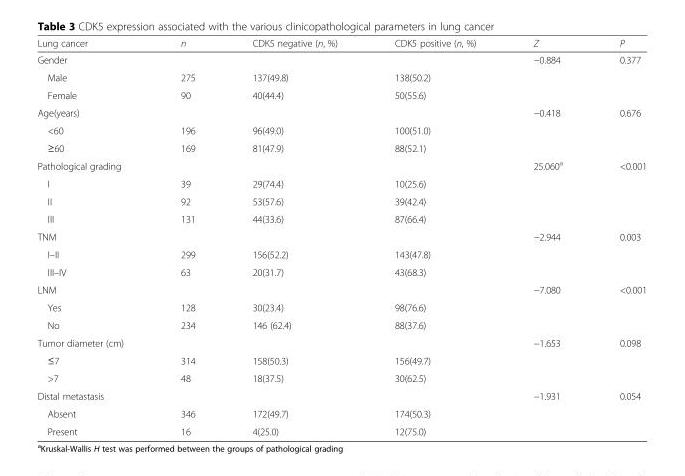table: (36, 37, 646, 436)
table column: (223, 37, 365, 436), (365, 37, 504, 436), (36, 37, 151, 436), (504, 37, 590, 436), (151, 37, 223, 436), (590, 37, 646, 436)
table column header: (36, 37, 646, 50)
table row: (36, 155, 646, 174), (36, 50, 646, 68), (36, 85, 646, 103), (36, 103, 646, 121), (36, 174, 646, 192), (36, 209, 646, 227), (36, 227, 646, 245), (36, 262, 646, 280), (36, 280, 646, 298), (36, 298, 646, 316), (36, 333, 646, 351), (36, 351, 646, 369), (36, 386, 646, 404), (36, 404, 646, 422), (36, 68, 646, 85), (36, 121, 646, 138), (36, 138, 646, 155), (36, 192, 646, 209), (36, 245, 646, 262), (36, 316, 646, 333), (36, 369, 646, 386), (36, 422, 646, 436), (36, 37, 646, 50)
